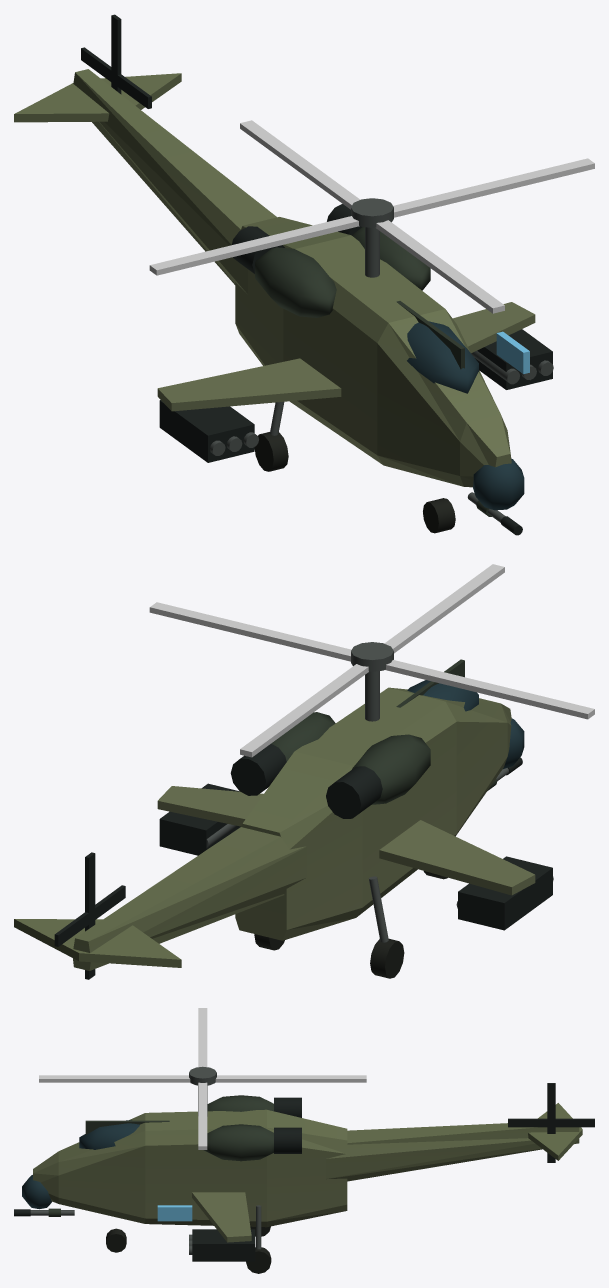
File: casHeli-lod.glb
3 views of the same model, one above another, from view 1: azimuth 30°, elevation 25°; view 2: azimuth 150°, elevation 25°; view 3: azimuth 270°, elevation 25° (orthographic). The views are drawn at different scales.
Visible parts, largest first — view 1: equipment (×4), marking; view 2: equipment (×4); view 3: equipment (×5), marking.
Boxes of the visible parts, x1,y1,x2,y2 form: equipment (×4): (14,14,594,533); marking: (496,331,529,374); equipment (×4): (14,564,594,979); equipment (×5): (14,1008,594,1273); marking: (157,1205,192,1221).
Size of the model in its own units: 4.7 by 2.86 by 8.34.
